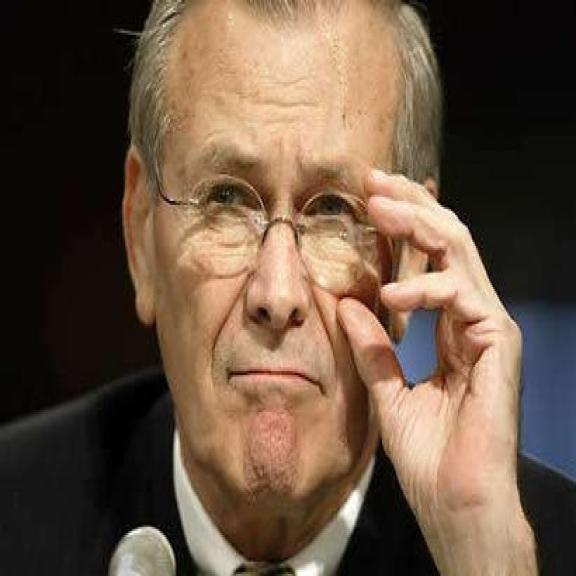face: (120, 2, 442, 536)
